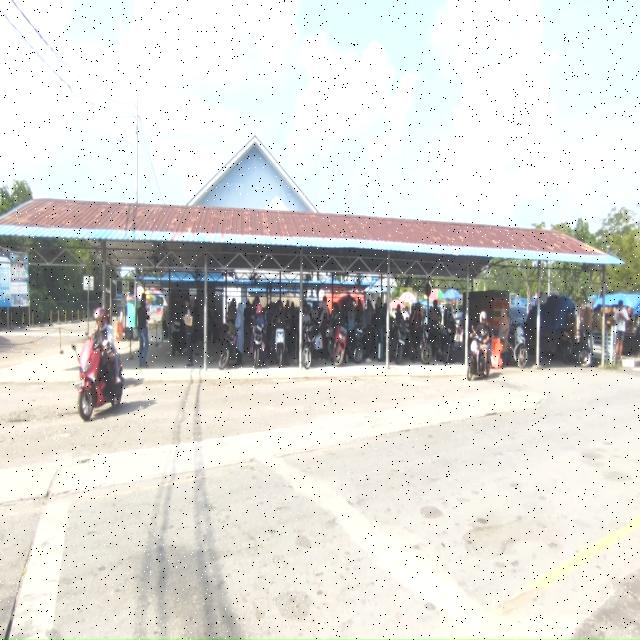Golongan II: (71, 335, 123, 421), (327, 311, 348, 366), (466, 337, 491, 381), (556, 336, 590, 367), (508, 324, 528, 369), (302, 322, 319, 370), (436, 324, 456, 364), (250, 322, 265, 370), (219, 332, 237, 371), (393, 322, 408, 365), (171, 315, 186, 356), (351, 322, 365, 364), (419, 322, 432, 364), (274, 327, 286, 367)
